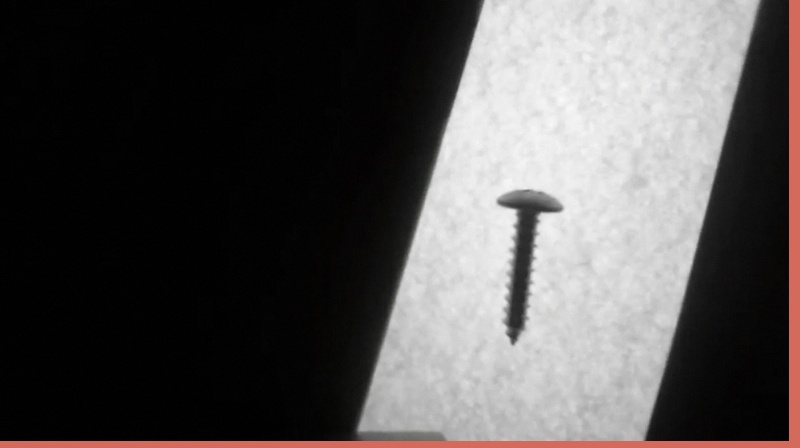S003: (491, 185, 566, 348)
